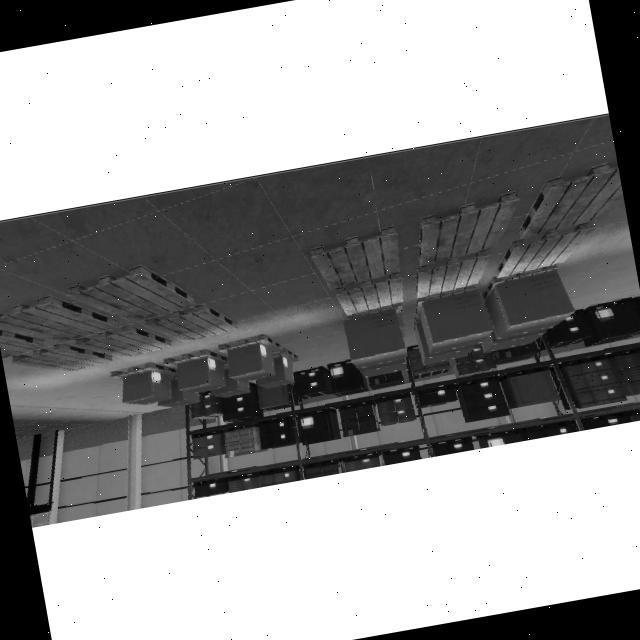wooden_pallet: (66, 263, 195, 321), (0, 294, 118, 342), (144, 302, 237, 342), (75, 325, 171, 358), (12, 343, 113, 372), (162, 348, 228, 370), (218, 334, 283, 355), (109, 361, 177, 380), (273, 347, 299, 362)
